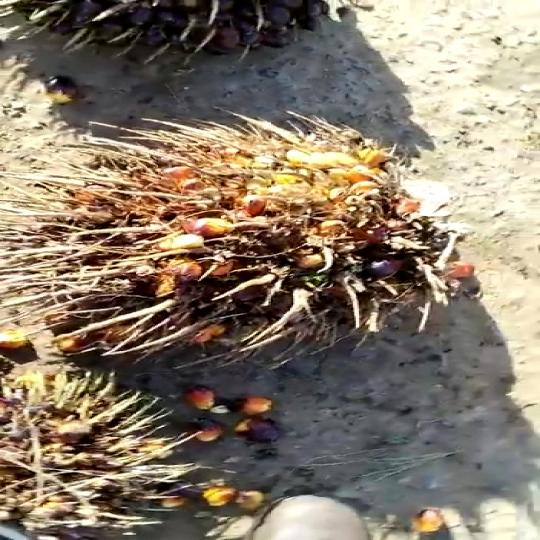terlalu masak: (0, 100, 505, 403)
